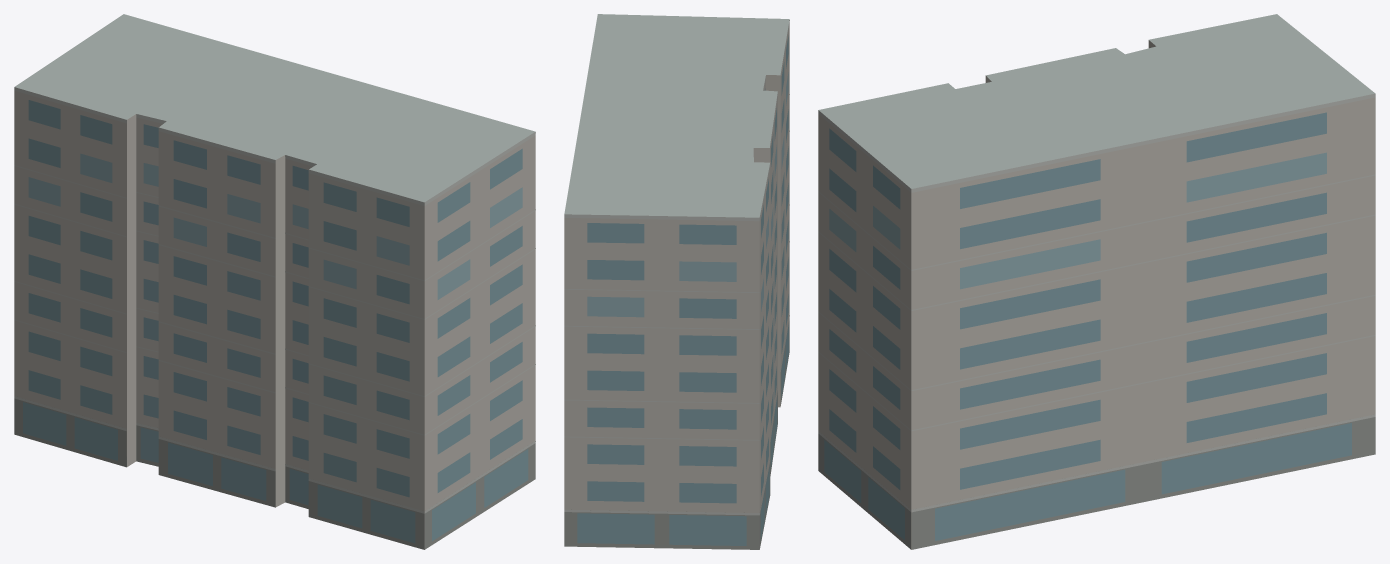
File: survey-upis-32702411.glb
3 views of the same model, side by side, from view 1: azimuth 30°, elevation 25°; view 2: azimuth 150°, elevation 25°; view 3: azimuth 270°, elevation 25° (orthographic). The views are drawn at different scales.
Visible parts, largest first — view 1: survey-upis-32702411.tmp; view 2: survey-upis-32702411.tmp; view 3: survey-upis-32702411.tmp.
Boxes of the visible parts, <box> form: survey-upis-32702411.tmp: <box>14,14,535,549</box>; survey-upis-32702411.tmp: <box>564,14,789,549</box>; survey-upis-32702411.tmp: <box>818,14,1375,549</box>.
Bounding box in the file's own units: 23.95 × 23 × 32.21.
